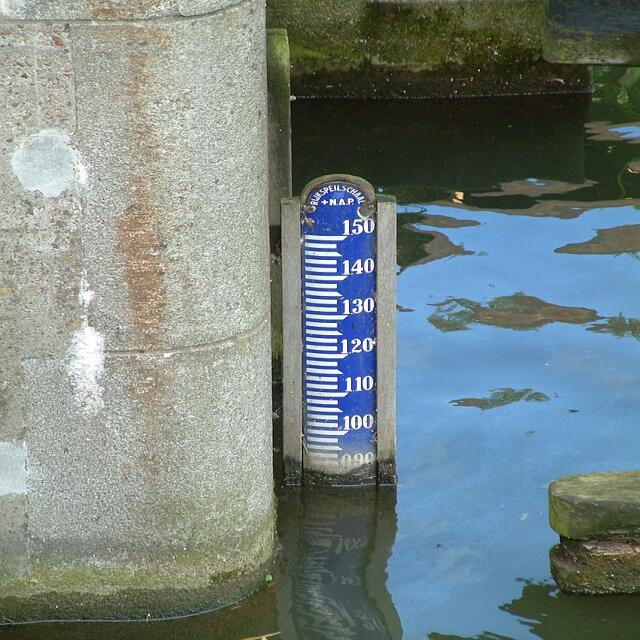10: (353, 372, 375, 393), (344, 413, 364, 430)
20: (350, 335, 375, 354)
30: (352, 296, 377, 314)
40: (352, 257, 374, 275)
50: (352, 217, 377, 236)
staff: (304, 202, 378, 464)
